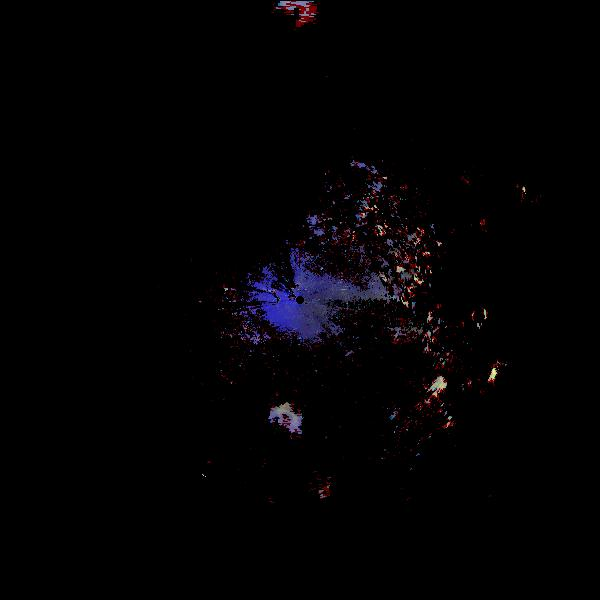roost: (268, 406, 301, 439)
